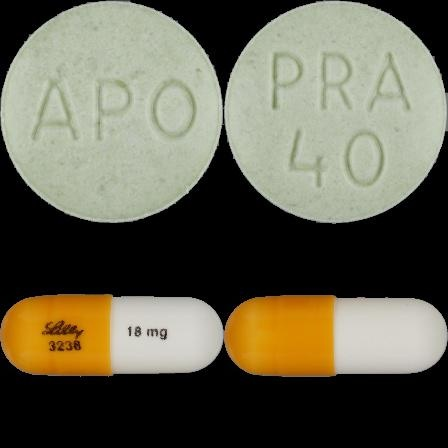35356-125: (0, 0, 224, 224)
